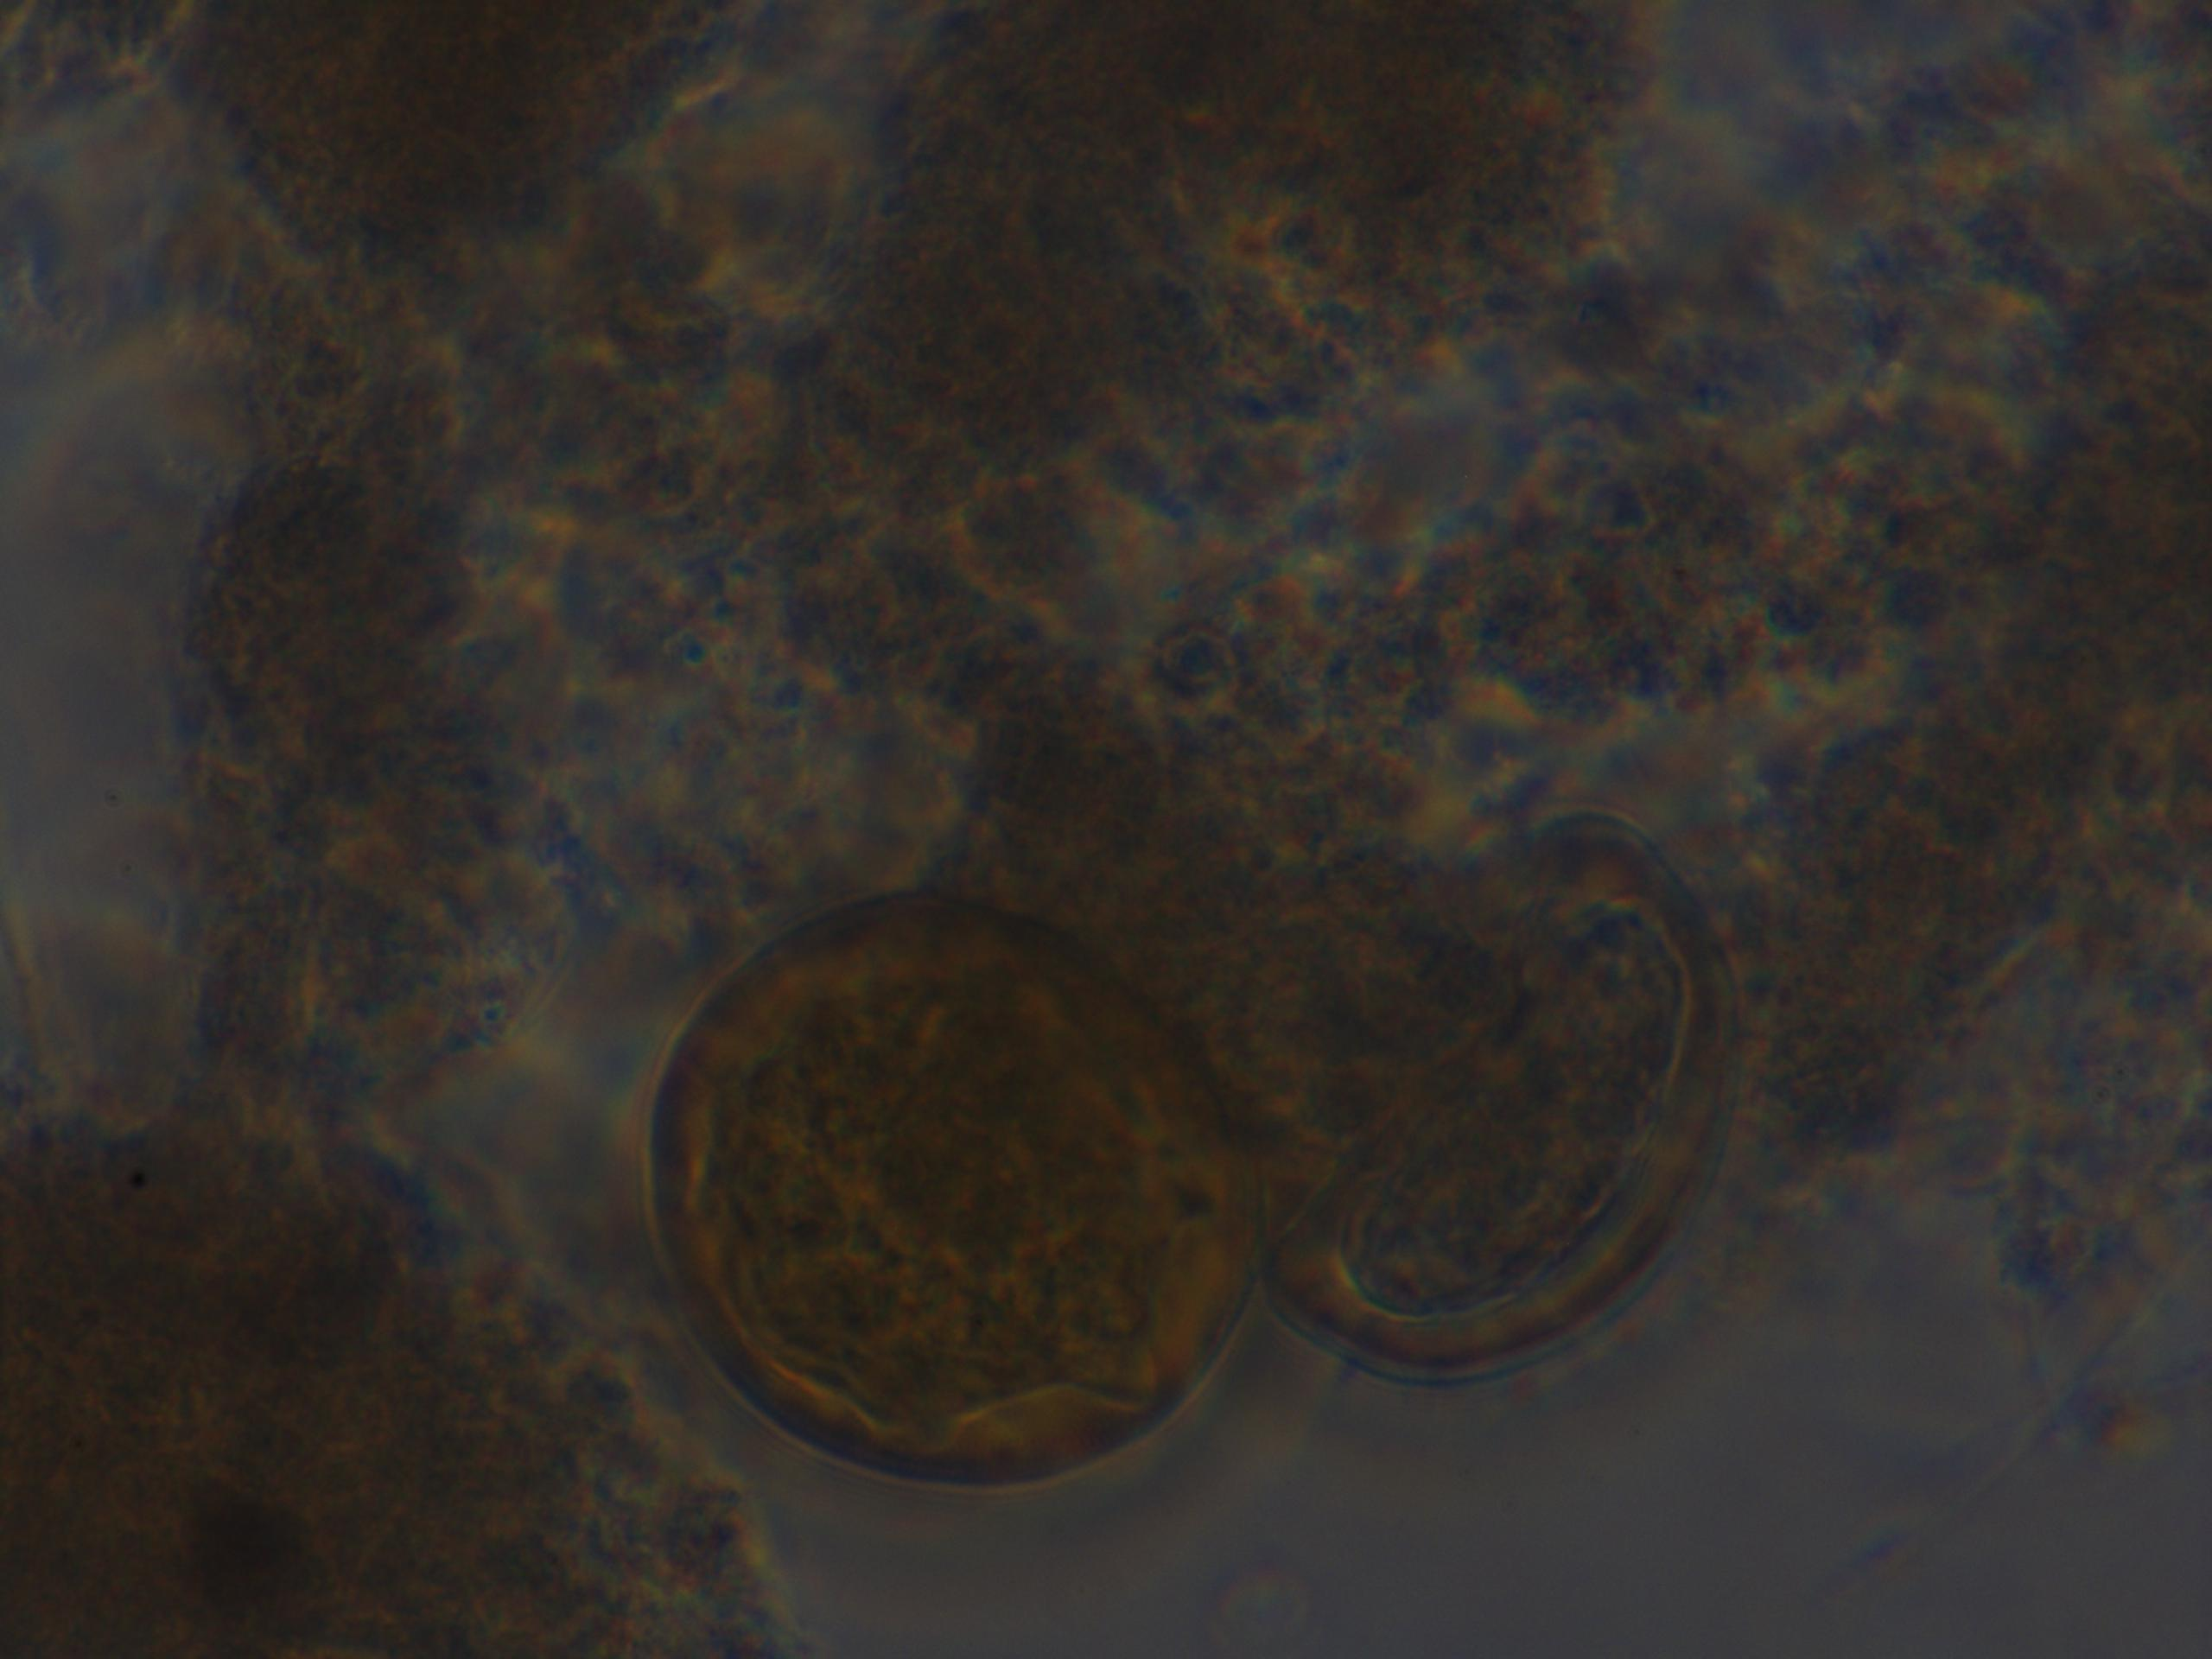protozoa: (594, 845, 1273, 1528), (1280, 803, 1757, 1391)
